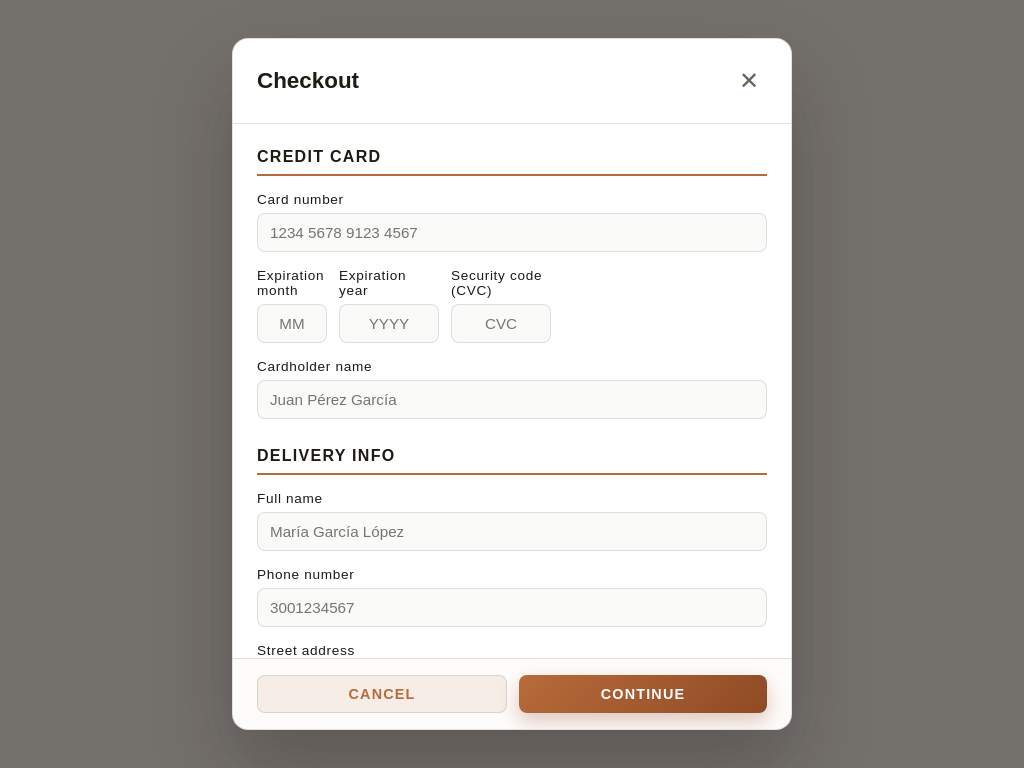
Test case: CheckoutModal › should show validation errors when fields are empty
Click the button "Continue": (643,694) x1=519 y1=675 x2=767 y2=713
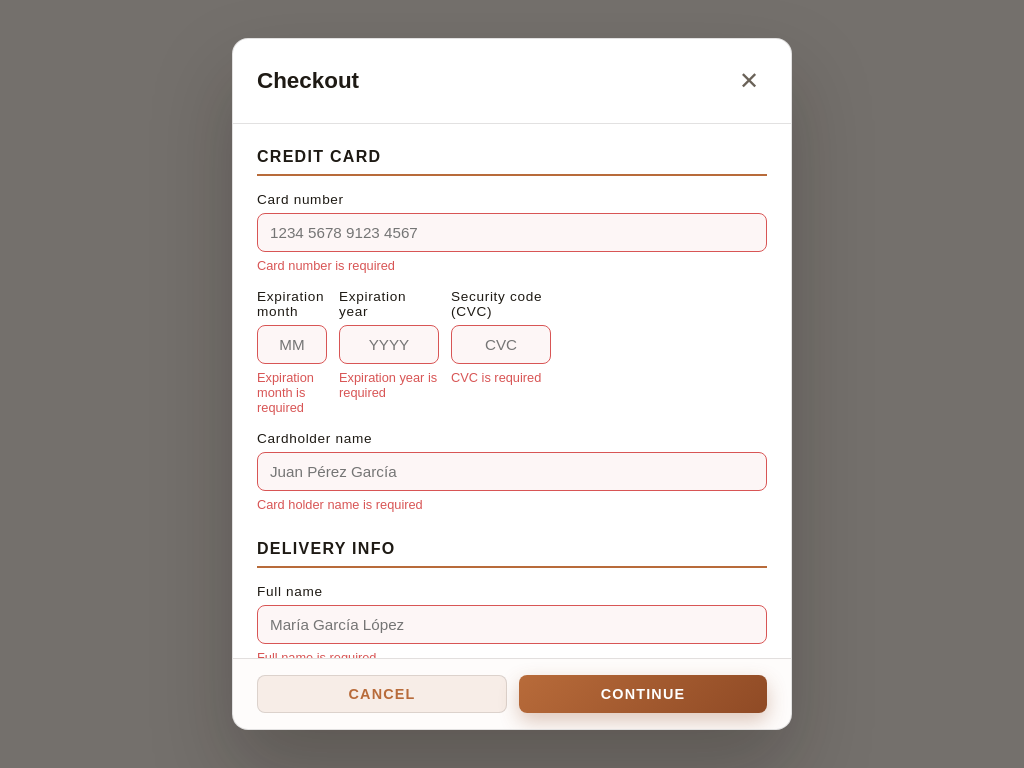
Expected: the text "Card number is required" is shown, x1=257 y1=258 x2=395 y2=273
Expected: the text "CVC is required" is shown, x1=451 y1=370 x2=551 y2=385
